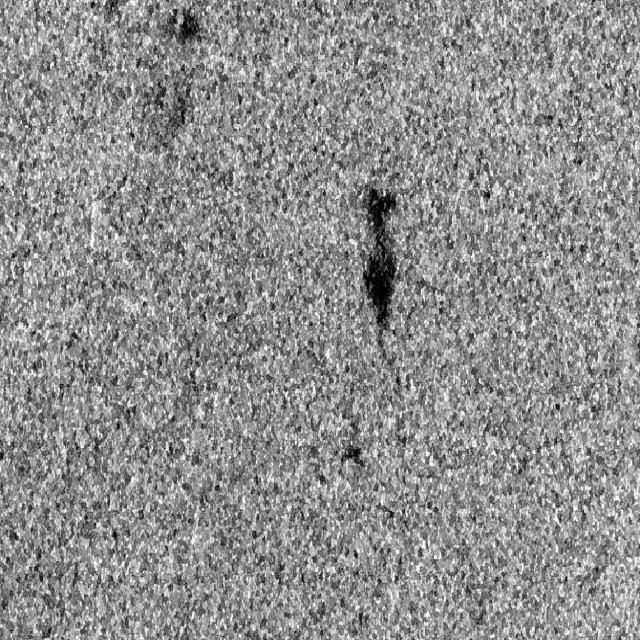look-alike: (142, 10, 204, 146), (337, 432, 366, 473)
oil-spill: (351, 182, 409, 352)
